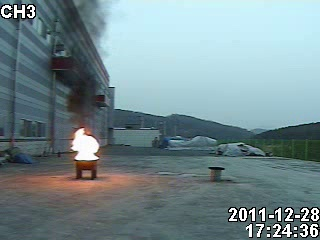fire: (69, 125, 100, 162)
